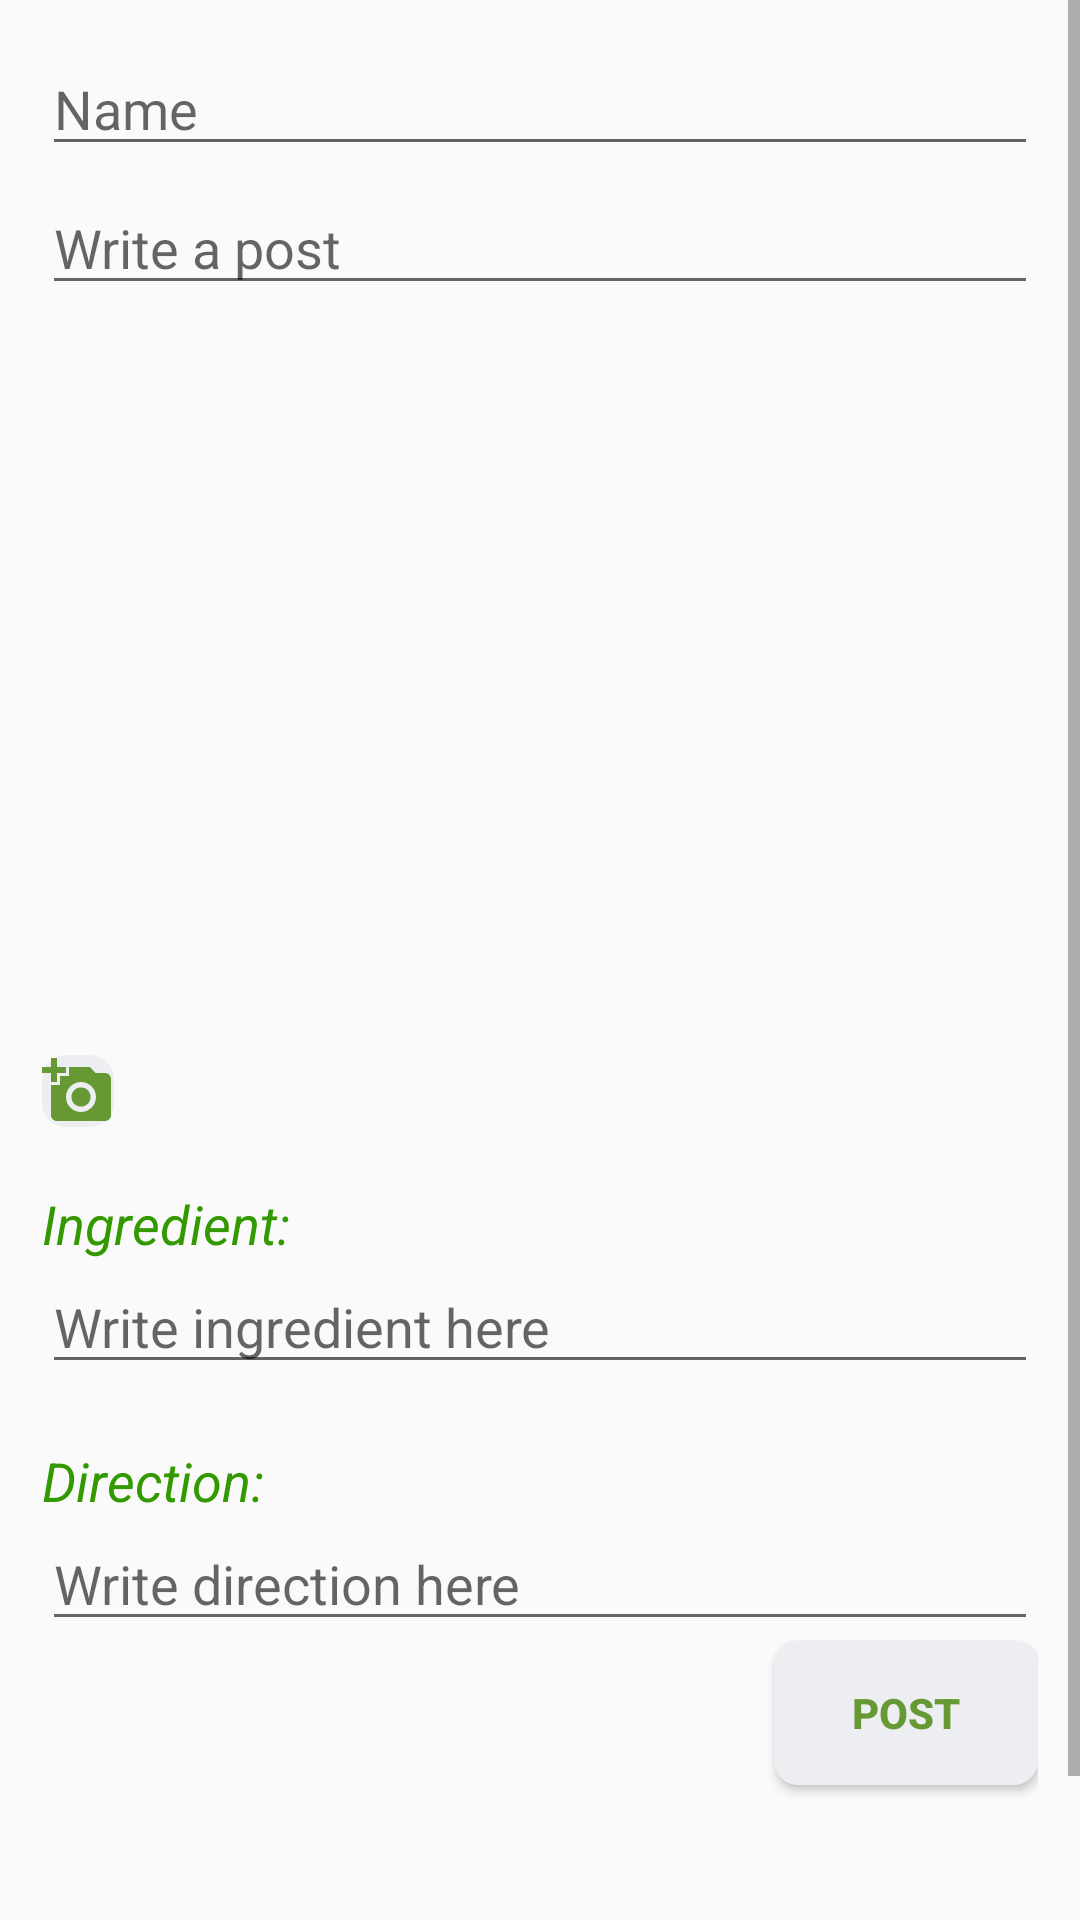

Where to tap for icons on this 1080 × 1920 app screen, as point (x, y):
add photo: point (76, 1089)
